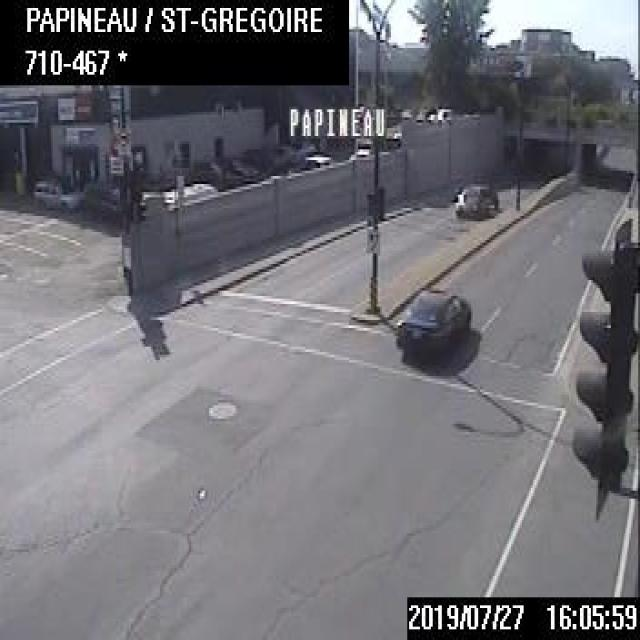vehicle: (396, 288, 469, 349), (452, 179, 494, 213), (34, 179, 82, 208)
